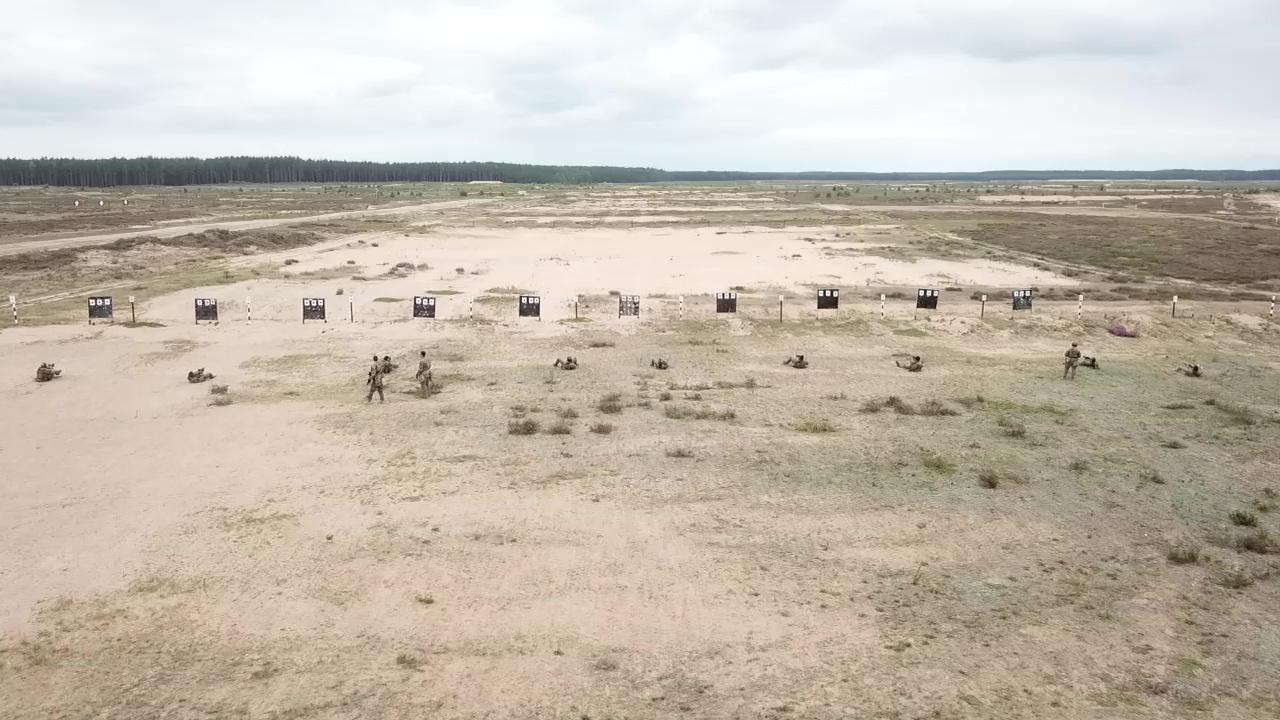Soldier: (364, 354, 387, 407), (413, 348, 436, 401), (1060, 339, 1083, 382), (33, 360, 65, 386), (894, 352, 926, 374), (185, 366, 217, 387), (782, 351, 811, 372), (553, 353, 583, 373)
